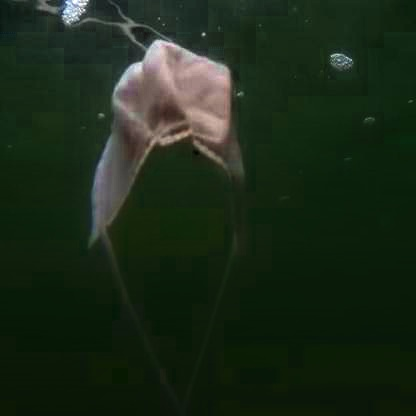Mask: (86, 35, 249, 415)
